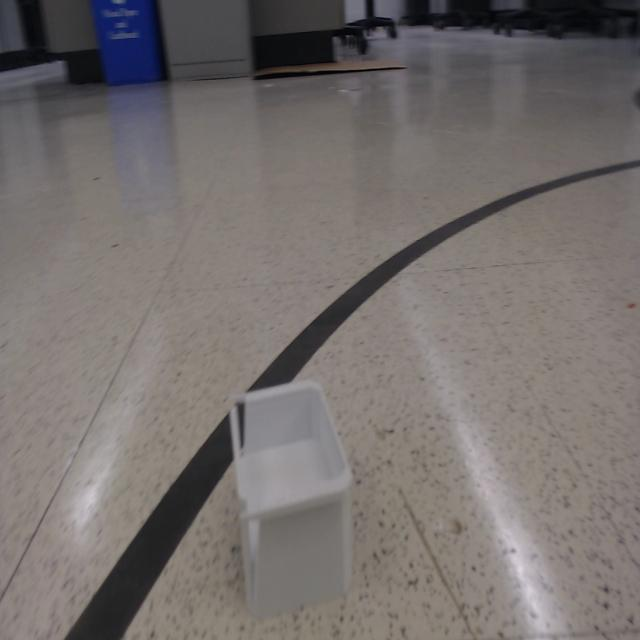wbox: (226, 374, 356, 619)
